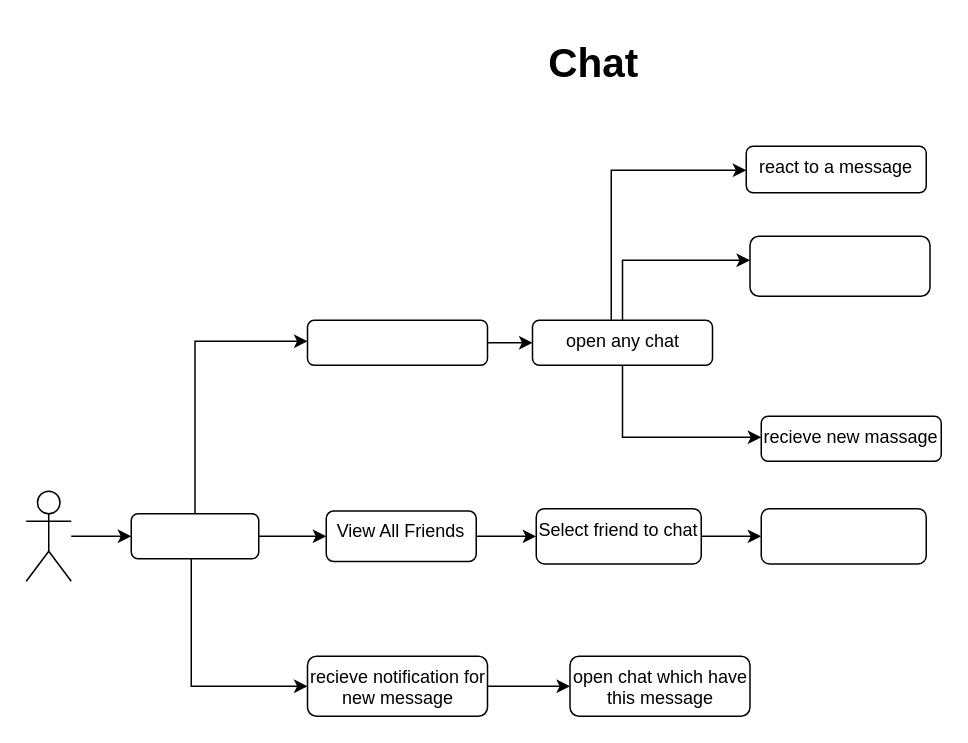
Image size: 968x743. Some labels were removed from this diagram. Here are the shapes that lost their labels. From the top down, the centre of each, then its label:
At (x=839, y=265): "send new massage (include media)".
At (x=397, y=342): "View All Chats".
At (x=194, y=535): "Login".
At (x=843, y=535): "send new massage".
